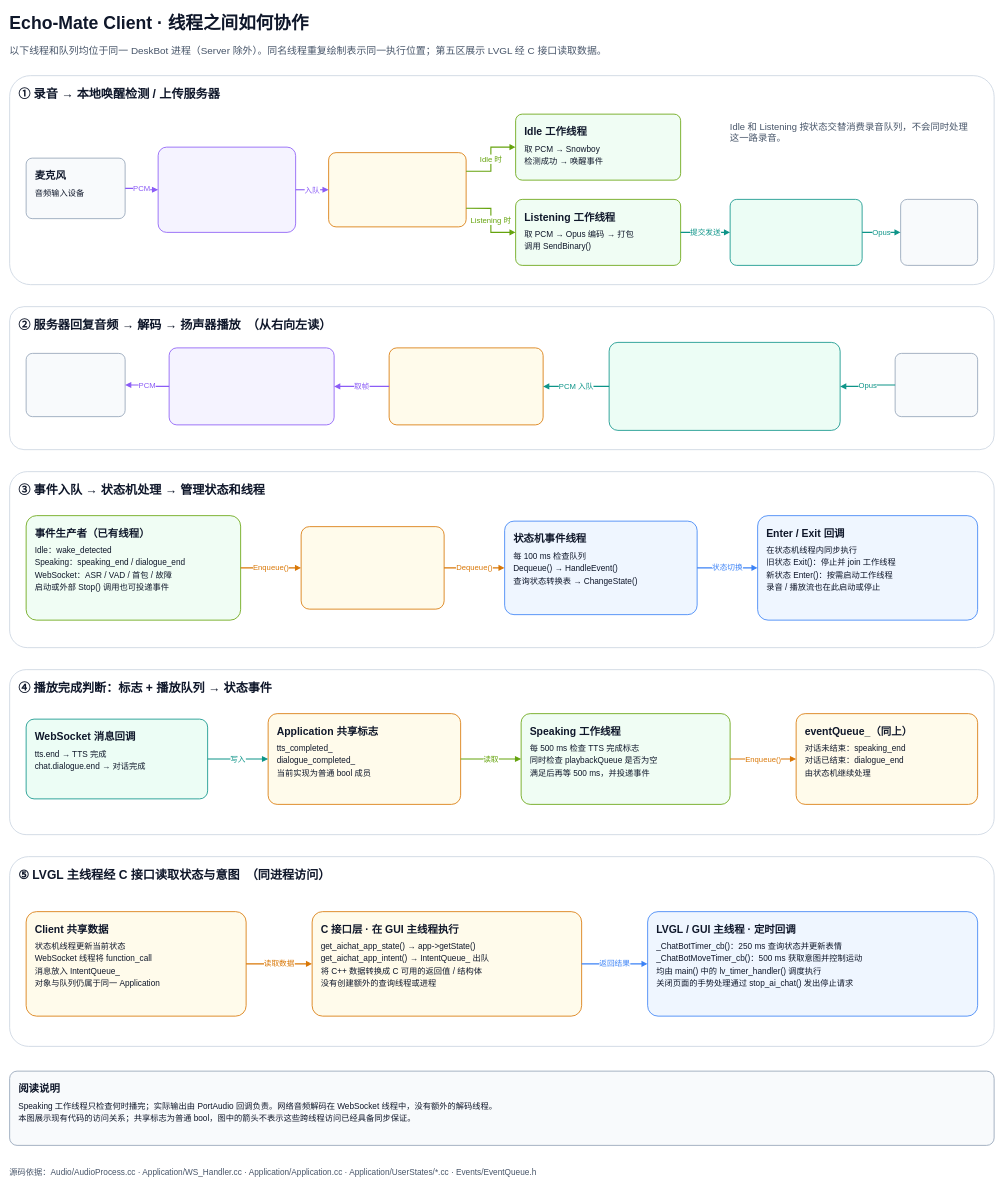
Some shapes in this 1004 by 1193 pixel diagram are drawn without their labels. Each missing label, with the centre of its shape:
"eventQueue_ EventQueue<int> mutex + 条件变量 共享事件队列" goes at (372,567).
"playbackQueue 待播放 PCM 队列 mutex 保护" goes at (465,386).
"PortAudio 录音回调 recordCallback() 复制一帧 PCM 入队后 notify_one()" goes at (226,189).
"PortAudio 播放回调 playCallback() 取 PCM → 填充 outputBuffer" goes at (251,386).
"recordedAudioQueue 录音 PCM 队列 mutex + 条件变量" goes at (397,189).
"Server TTS 音频 外部进程" goes at (936,385).
"Server 接收 Opus 外部进程" goes at (939,232).
"WebSocket 线程 / WSHandler on_message() → ws_msg_handle() 二进制协议解包 → Opus 解码 → 入队" goes at (724,386).
"WebSocket 线程 网络事件循环 发送音频数据" goes at (795,232).
"扬声器 音频输出设备" goes at (75,385).
